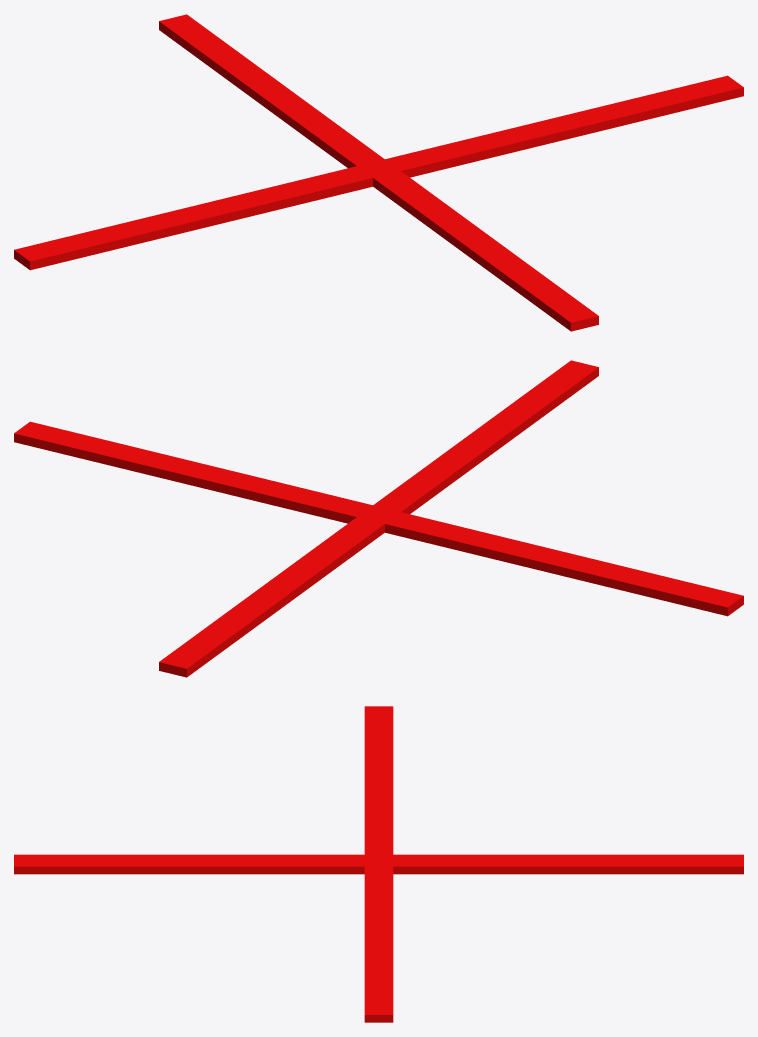
The model's file is cross.obj.
The picture shows the model from 3 angles, top to bottom: view 1: azimuth 30°, elevation 25°; view 2: azimuth 150°, elevation 25°; view 3: azimuth 270°, elevation 25°; orthographic projection. The views are drawn at different scales.
Visible parts, largest first — view 1: Box002, Box003; view 2: Box002, Box003; view 3: Box003, Box002.
Part boxes in pixels (x1,y1,x2,y2): Box002: [14, 75, 743, 270]; Box003: [159, 14, 598, 331]; Box002: [14, 421, 743, 616]; Box003: [159, 360, 598, 677]; Box003: [14, 854, 743, 874]; Box002: [364, 706, 393, 1022].
Size of the model in its own units: 2.56 by 0.03 by 2.56.
1 material, 1 textured.
